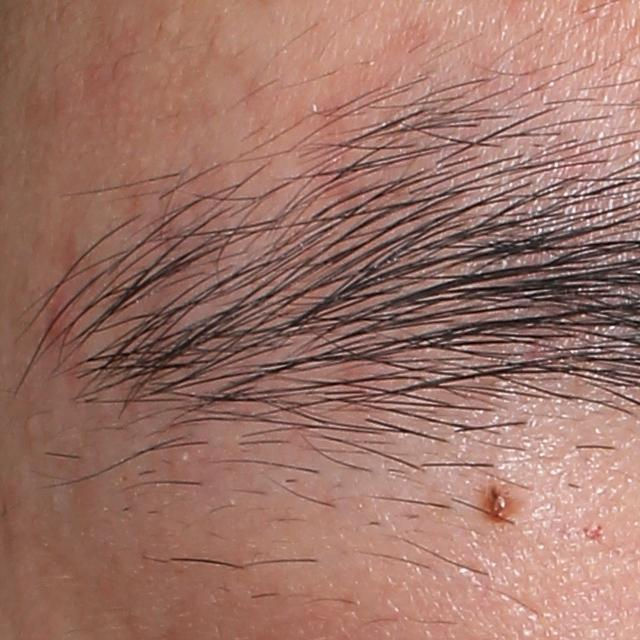nevus: (477, 483, 521, 523)
